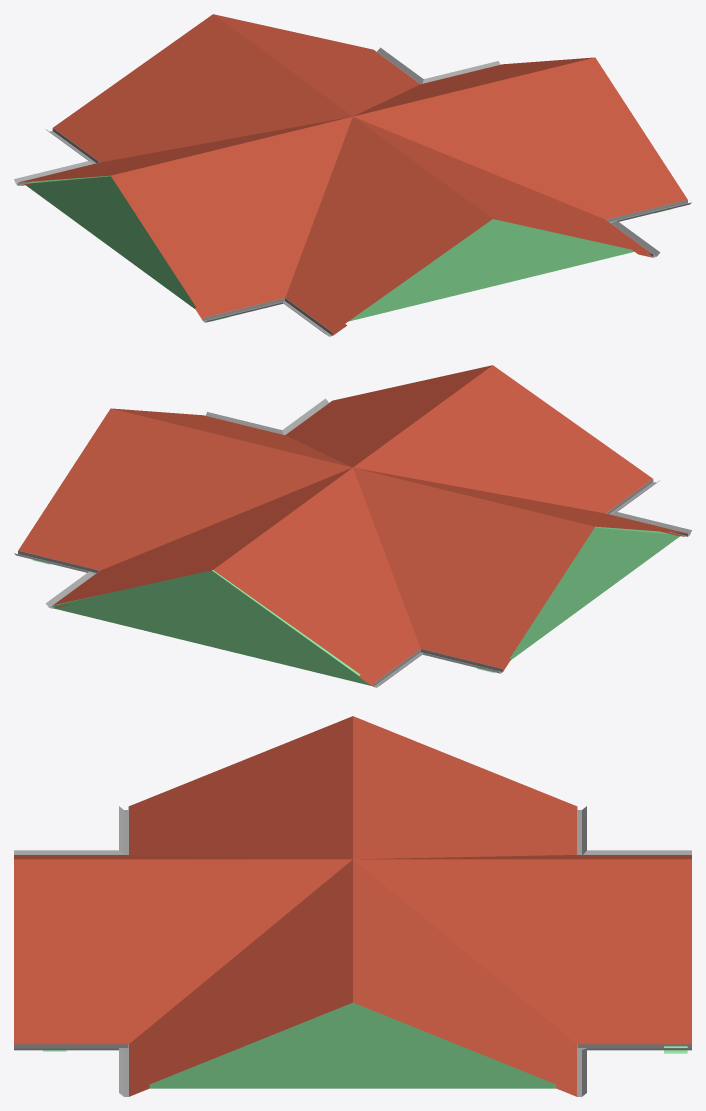
The model's file is MESH_ENV(Telhado_15x15_Formato.fbx.
The picture shows the model from 3 angles, top to bottom: view 1: azimuth 30°, elevation 25°; view 2: azimuth 150°, elevation 25°; view 3: azimuth 270°, elevation 25°; orthographic projection. The views are drawn at different scales.
Parts seen in each view (by area): view 1: MESH_ENV(Telhado_15x15_Formato; view 2: MESH_ENV(Telhado_15x15_Formato; view 3: MESH_ENV(Telhado_15x15_Formato.
Boxes of the visible parts, bbox=[...] form: MESH_ENV(Telhado_15x15_Formato: bbox=[14, 14, 691, 336]; MESH_ENV(Telhado_15x15_Formato: bbox=[14, 365, 691, 687]; MESH_ENV(Telhado_15x15_Formato: bbox=[14, 716, 691, 1096].
Size of the model in its own units: 1500 by 234 by 1500.
